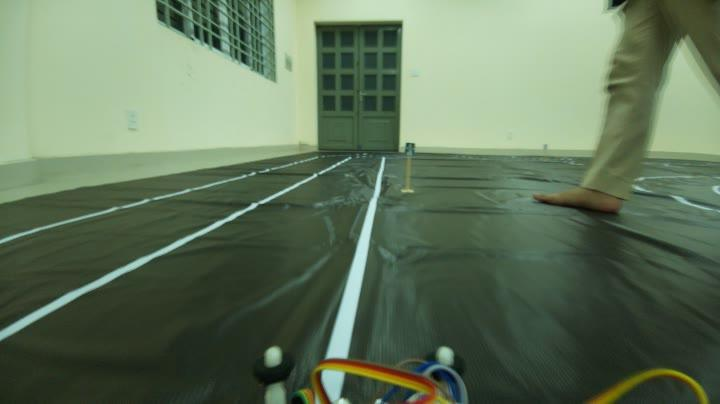highway_exit: (399, 134, 420, 160)
